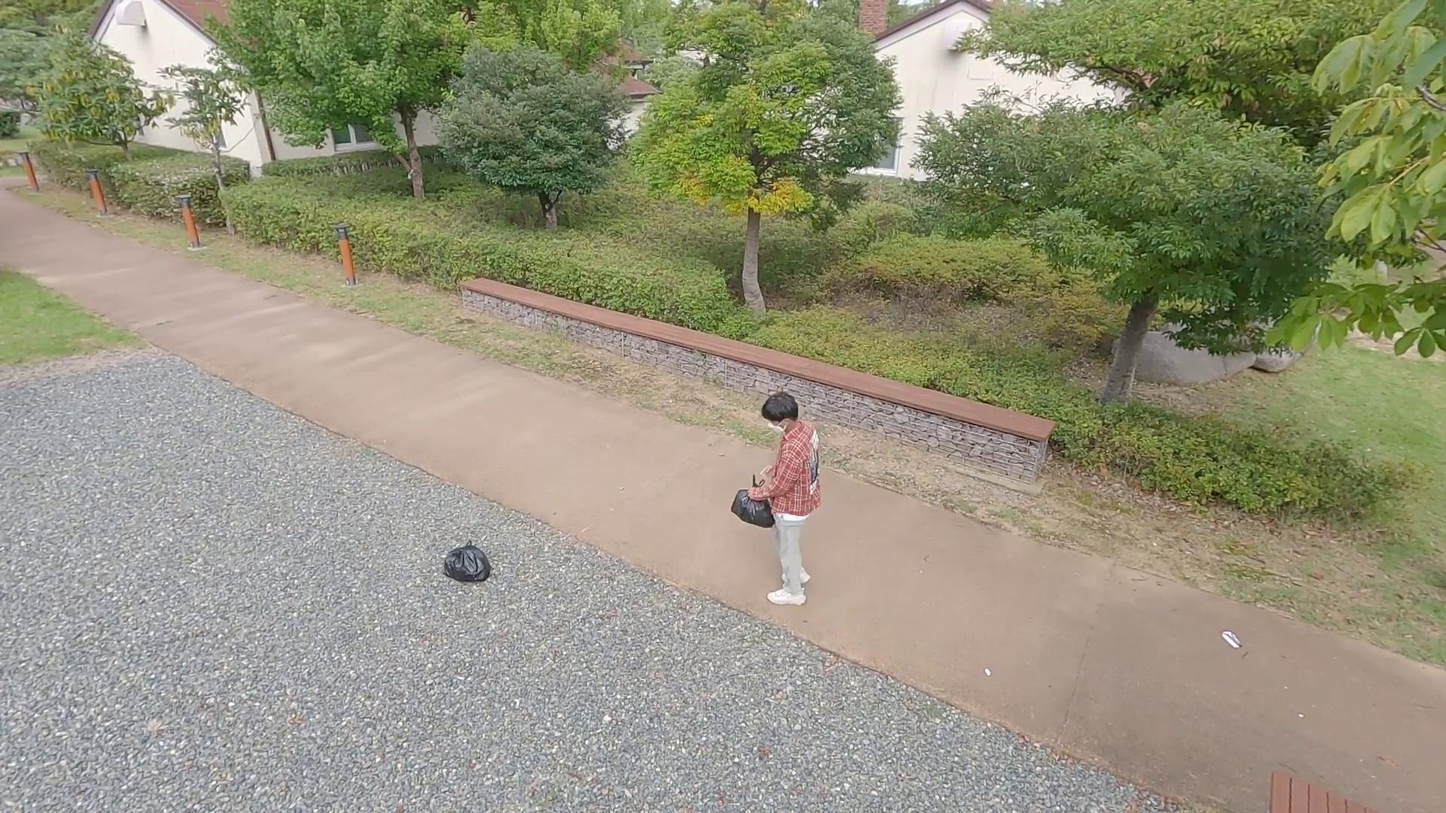person: (749, 394, 821, 605)
trash: (732, 474, 776, 531), (441, 538, 491, 581)
